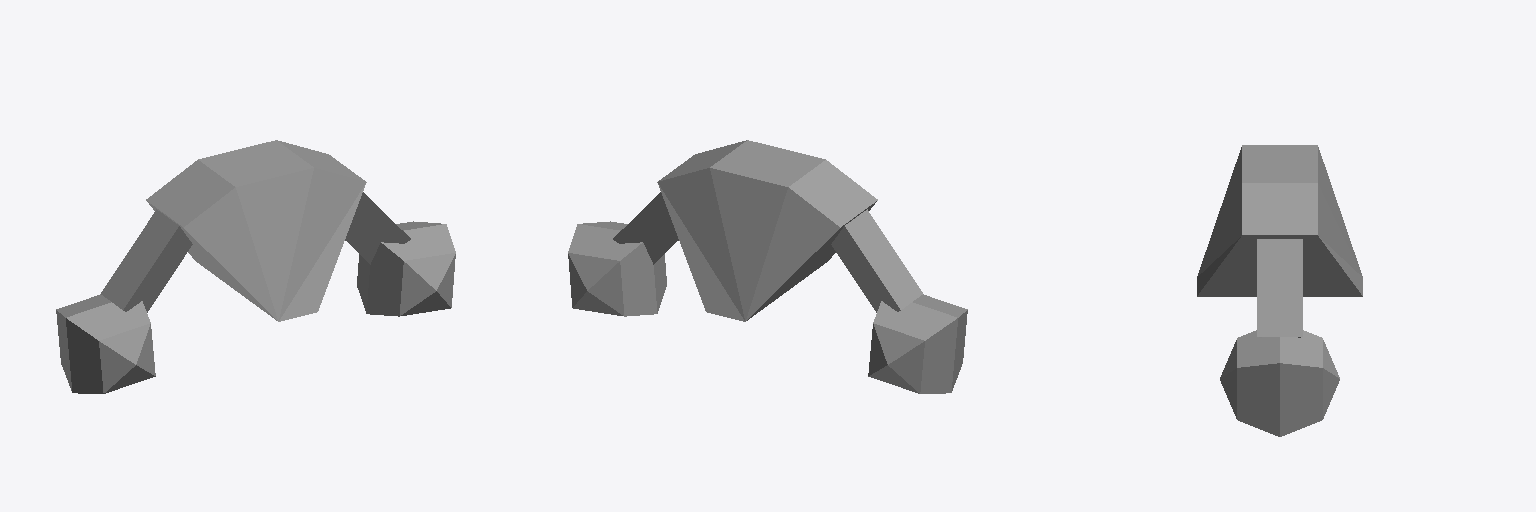
The model's file is arm.obj.
The picture shows the model from 3 angles: view 1: azimuth 30°, elevation 25°; view 2: azimuth 150°, elevation 25°; view 3: azimuth 270°, elevation 25°; orthographic projection.
Visible parts, largest first — view 1: default; view 2: default; view 3: default.
Boxes of the visible parts, <box> form: default: <box>56,140,455,393</box>; default: <box>568,140,967,393</box>; default: <box>1197,145,1362,436</box>.
Bounding box in the file's own units: 0.909 × 0.4224 × 0.3438.